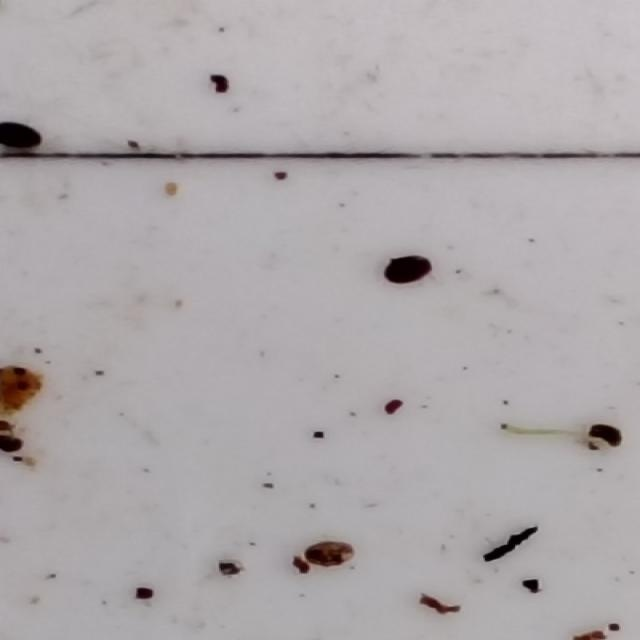varroa: (385, 256, 433, 286), (1, 122, 46, 152)
